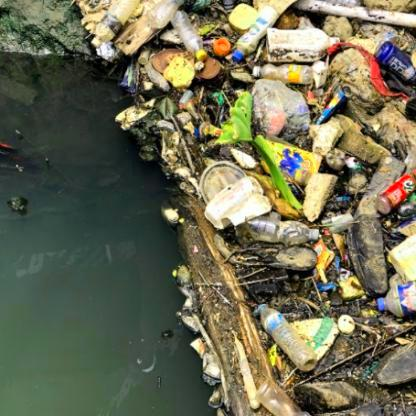Glass: (262, 25, 347, 66), (374, 39, 416, 88)
Metal: (376, 165, 415, 218)
Plastic: (256, 299, 318, 374), (201, 173, 271, 230), (230, 6, 280, 64), (89, 0, 140, 52), (242, 216, 324, 248), (169, 7, 209, 66), (377, 280, 416, 324)
Trash: (256, 131, 322, 190), (300, 168, 340, 224), (309, 121, 345, 155)
